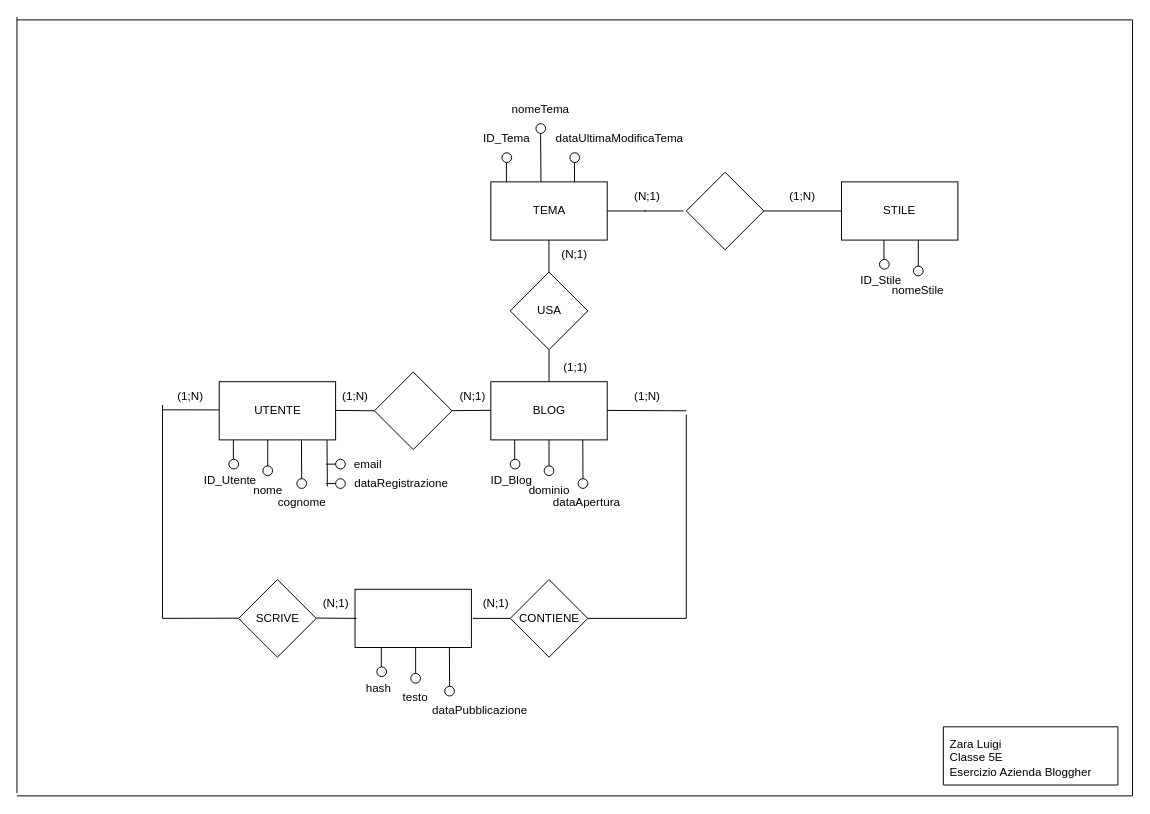
Image size: 1150x814. Some labels were removed from this diagram. The shapes that lost their labels are listed below. From the top down, each one's centre as x and y in pixels, then its label:
At (x=724, y=210): "APPARTIENE".
At (x=412, y=410): "CREA".
At (x=412, y=617): "CONTENUTO".
